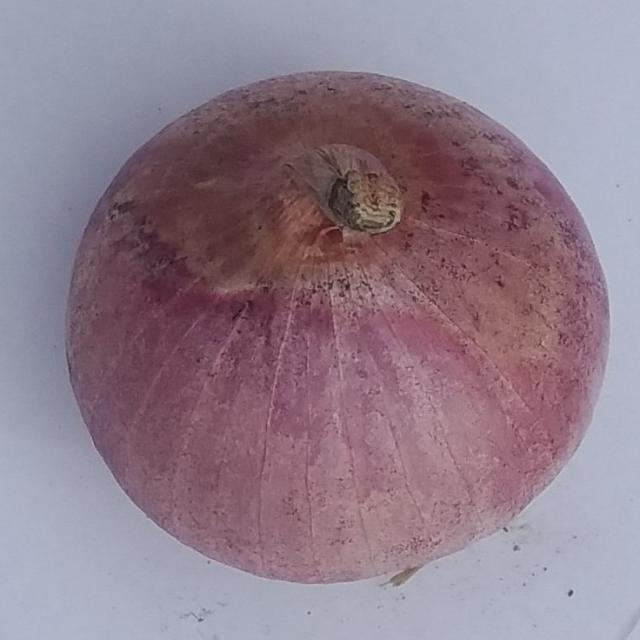onion: (64, 70, 612, 586)
